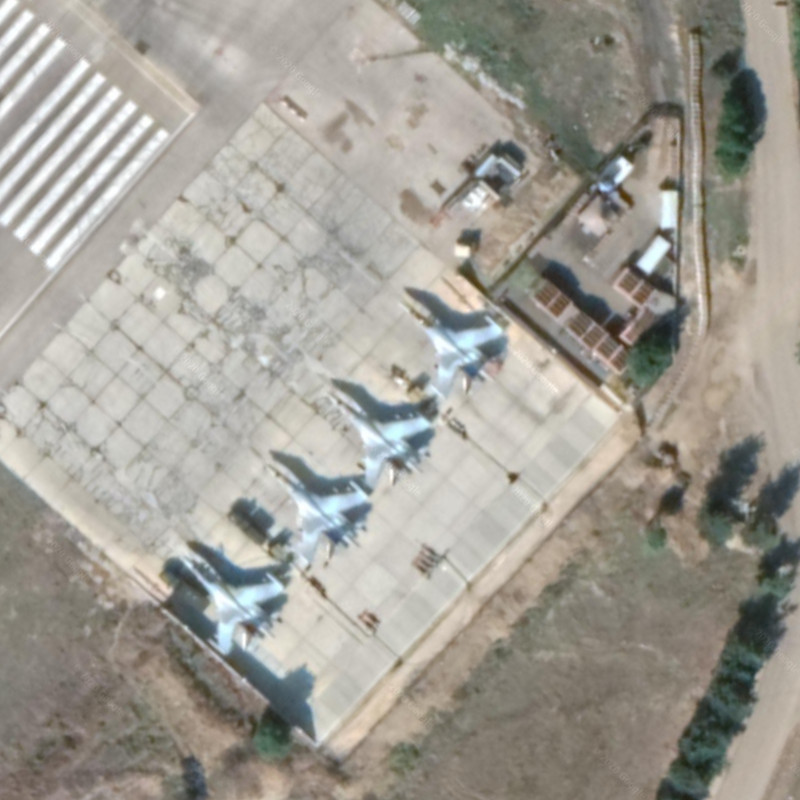A1: (166, 547, 289, 659), (256, 452, 376, 562), (390, 287, 511, 391), (312, 384, 441, 478)
